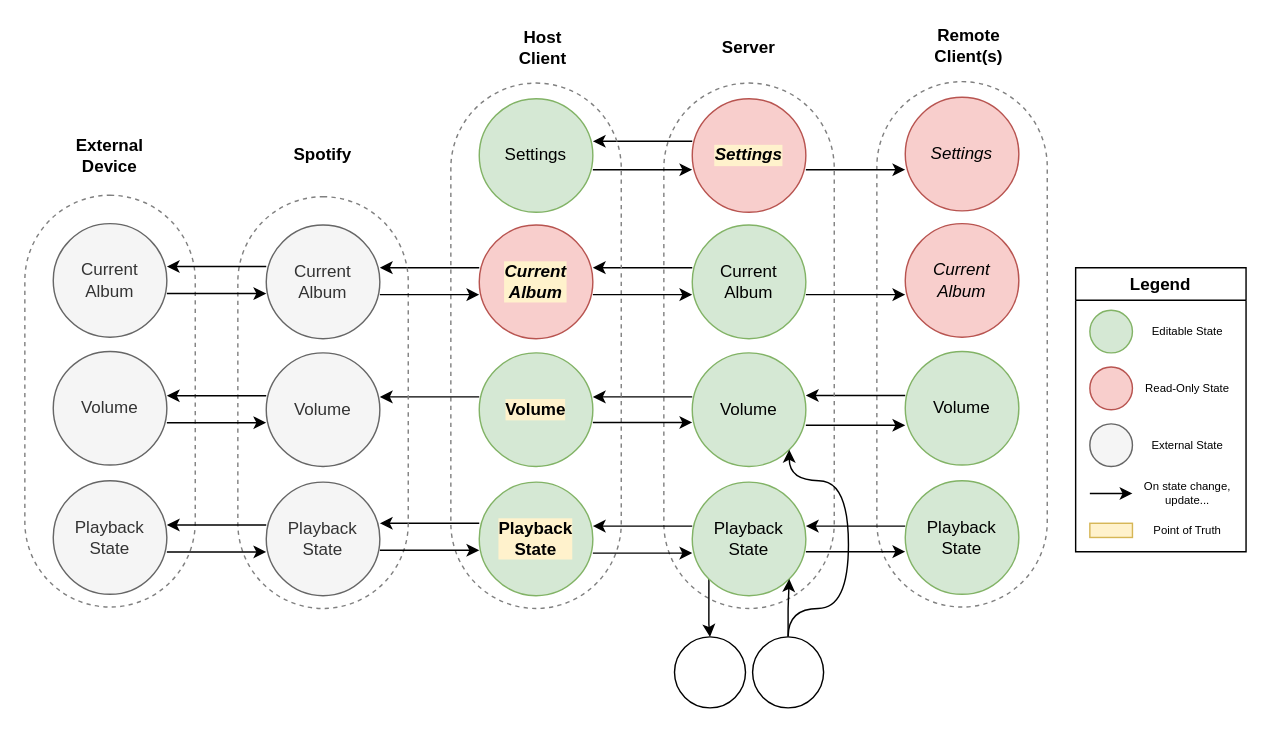
This 1271x733 diagram has some shape labels left out. The shapes that lost their labels are listed below. From the top down, each one's centre as x and y in pixels, then its label:
At pixel 709 671: "Motor".
At pixel 787 671: "Encoder".
